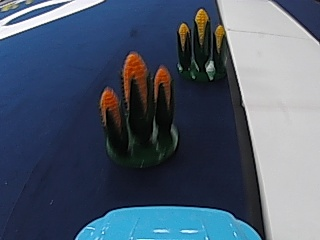corn: (106, 53, 179, 171), (173, 5, 224, 81)
